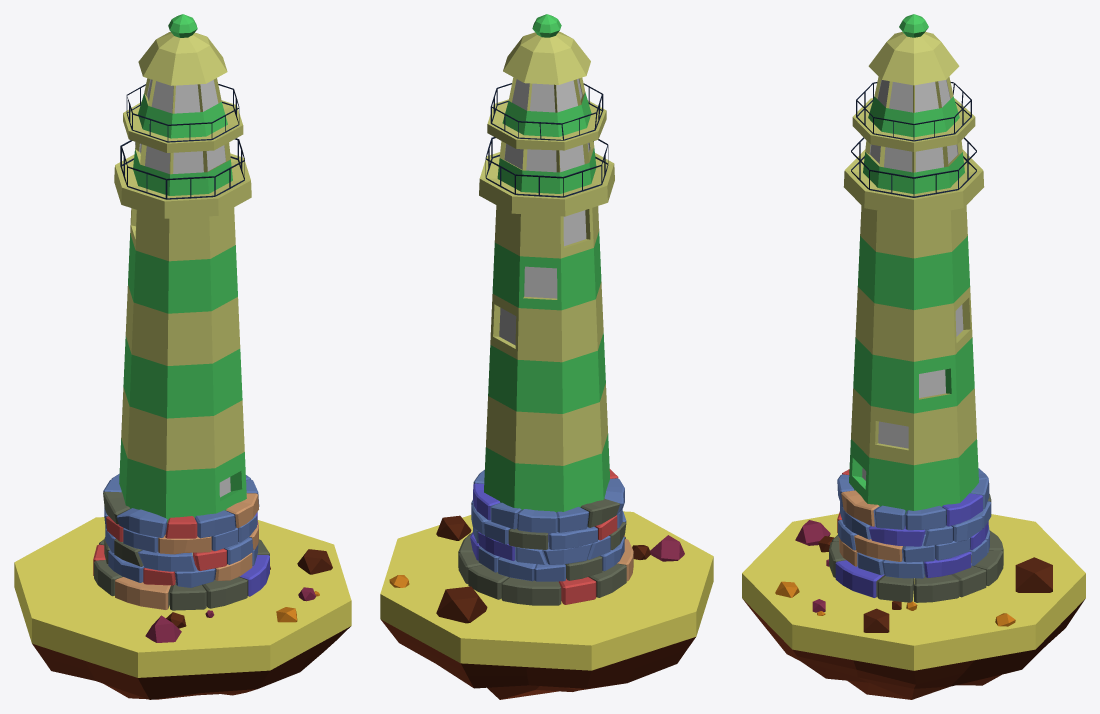
The model's file is lighthouse.obj.
3 renders of one model, left to right at view 1: azimuth 30°, elevation 25°; view 2: azimuth 150°, elevation 25°; view 3: azimuth 270°, elevation 25°, orthographic.
Parts seen in each view (by area): view 1: Cylinder_Cylinder.001, Circle.001_Circle.003, Circle_Circle.002, Cube.007_Cube.009, Cube.004, Cube.002, Cube.001, Cube.003, Cylinder.001_Cylinder.002, Cylinder.002_Cylinder.003, Cube, Cube.012; view 2: Cylinder_Cylinder.001, Circle.001_Circle.003, Circle_Circle.002, Cube.007_Cube.009, Cube.004, Cube.001, Cube.003, Cube.002, Cube.015, Cylinder.001_Cylinder.002, Cylinder.002_Cylinder.003, Cube (+1 smaller); view 3: Cylinder_Cylinder.001, Circle.001_Circle.003, Circle_Circle.002, Cube.007_Cube.009, Cube.004, Cube.003, Cube.001, Cube.002, Cube.015, Cylinder.001_Cylinder.002, Cylinder.002_Cylinder.003, Cube.012 (+1 smaller).
Boxes of the visible parts, x1,y1,x2,y2 form: Cylinder_Cylinder.001: (114, 14, 251, 522); Circle.001_Circle.003: (14, 517, 351, 677); Circle_Circle.002: (32, 626, 350, 699); Cube.007_Cube.009: (93, 539, 269, 610); Cube.004: (103, 473, 259, 538); Cube.002: (105, 521, 258, 571); Cube.001: (104, 537, 258, 587); Cube.003: (104, 507, 257, 554); Cylinder.001_Cylinder.002: (120, 138, 244, 199); Cylinder.002_Cylinder.003: (126, 84, 239, 142); Cube: (297, 549, 332, 574); Cube.012: (145, 615, 181, 642); Cylinder_Cylinder.001: (479, 14, 614, 512); Circle.001_Circle.003: (380, 511, 713, 670); Circle_Circle.002: (381, 619, 695, 699); Cube.007_Cube.009: (458, 533, 633, 605); Cube.004: (473, 469, 624, 532); Cube.001: (470, 532, 624, 581); Cube.003: (471, 500, 622, 549); Cube.002: (473, 511, 626, 564); Cube.015: (436, 586, 487, 623); Cylinder.001_Cylinder.002: (485, 137, 608, 197); Cylinder.002_Cylinder.003: (490, 83, 603, 140); Cube: (436, 515, 471, 540); Cylinder_Cylinder.001: (843, 14, 984, 513); Circle.001_Circle.003: (742, 513, 1085, 670); Circle_Circle.002: (743, 599, 1084, 699); Cube.007_Cube.009: (829, 530, 1003, 602); Cube.004: (837, 468, 989, 530); Cube.003: (840, 494, 991, 546); Cube.001: (838, 525, 989, 578); Cube.002: (837, 511, 988, 562); Cube.015: (1015, 557, 1052, 592); Cylinder.001_Cylinder.002: (851, 137, 976, 197); Cylinder.002_Cylinder.003: (856, 82, 971, 141); Cube.012: (795, 520, 830, 545).
Size of the model in its own units: 42.52 by 88.3 by 42.52.
